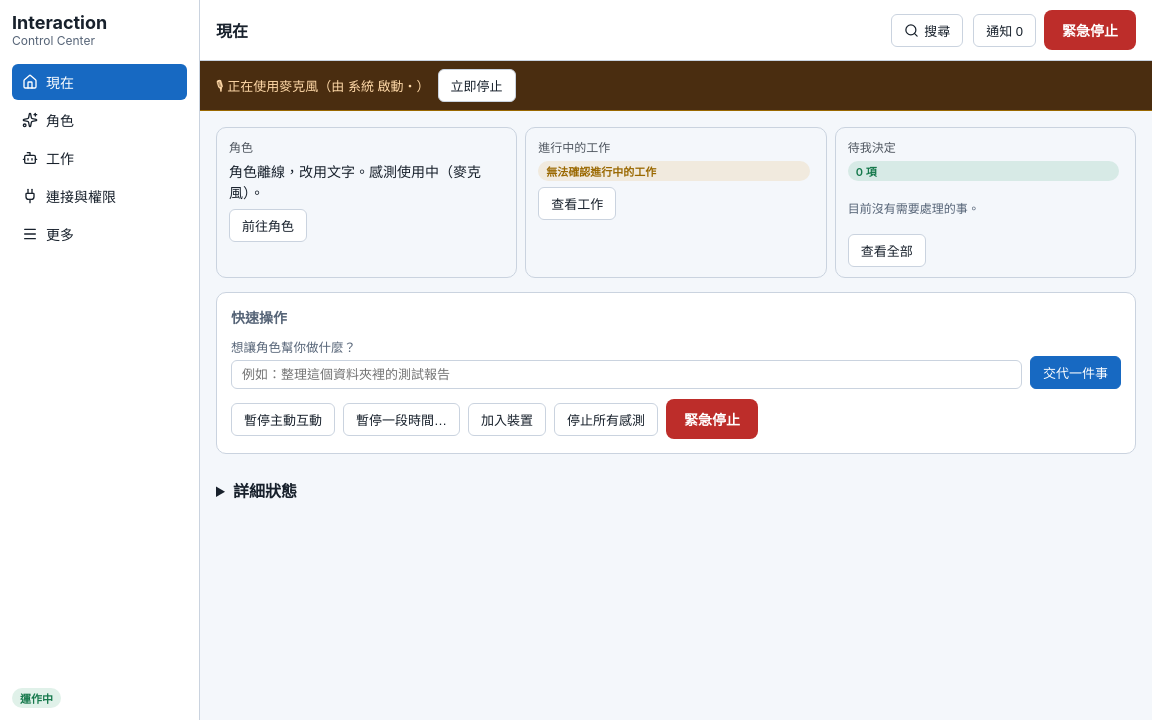
N3-UI-STOP-HISTORY: App sensor stop wiring › uses fresh recovery health and preserves its reminder
This screenshot has width=1152, height=720.
Click the button "立即停止".
click(477, 86)  # box [438,69,516,102]
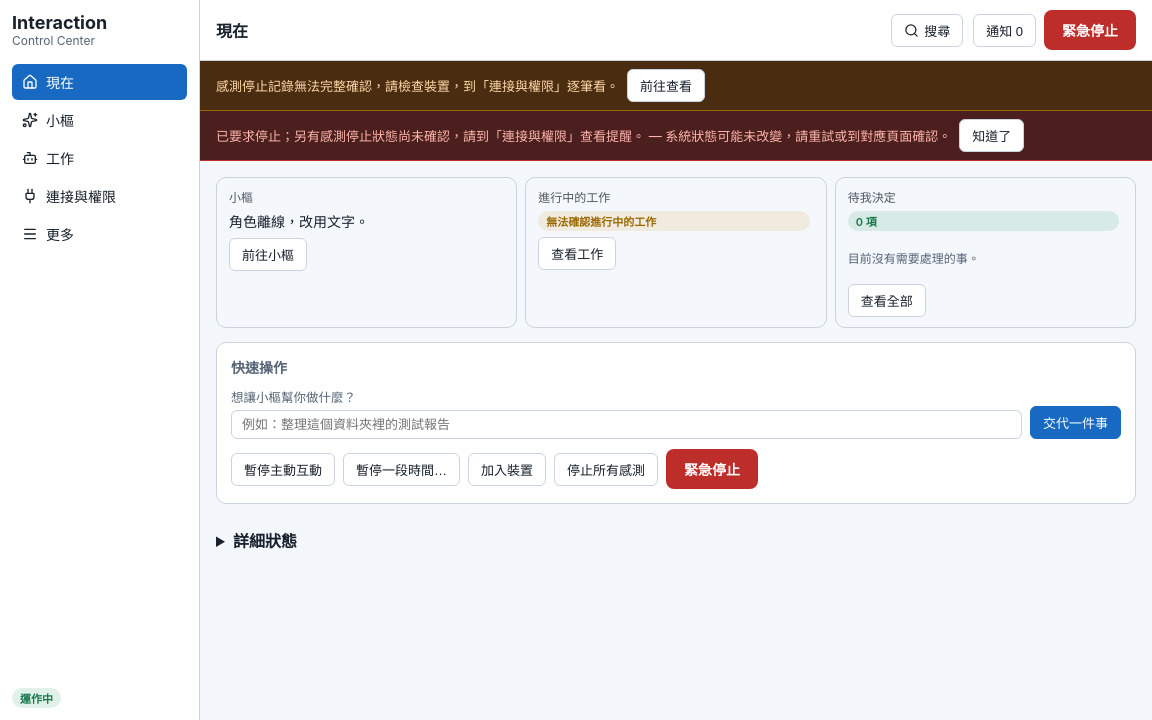
Result: the message "已要求停止；另有感測停止狀態尚未確認，請到「連接與權限」查看提醒。 — 系統狀態可能未改變，請重試或到對應頁面確認。 知道了" is shown at [200,111,1151,161]
Result: the message "感測停止記錄無法完整確認，請檢查裝置，到「連接與權限」逐筆看。 前往查看" is shown at [200,61,1151,111]
